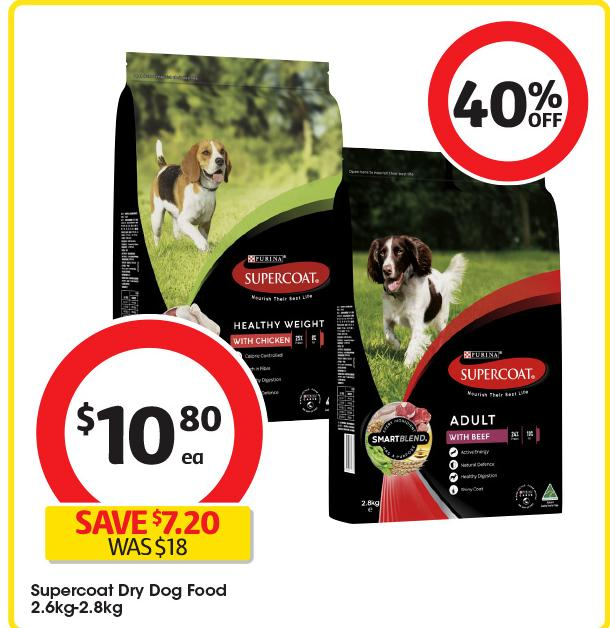description_block: (20, 569, 240, 621)
price_main: (54, 352, 257, 506)
product_image_block: (122, 31, 555, 518)
promo_text_block: (37, 503, 254, 569)
